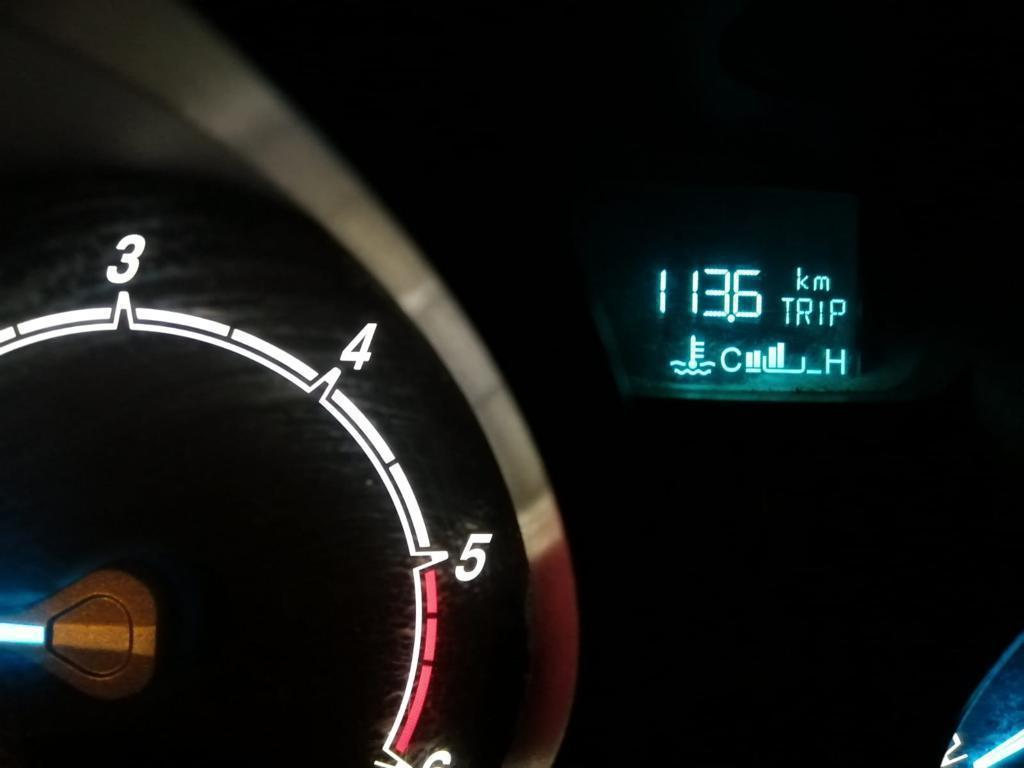,: (727, 314, 735, 324)
1: (654, 266, 670, 317), (686, 267, 701, 315)
3: (701, 266, 731, 318)
6: (732, 266, 763, 318)
X: (823, 346, 847, 376), (719, 344, 743, 374), (795, 296, 814, 327), (828, 297, 847, 327), (779, 295, 795, 326), (794, 264, 809, 292), (812, 274, 830, 292), (816, 298, 825, 326)
odometer: (607, 236, 940, 423)
